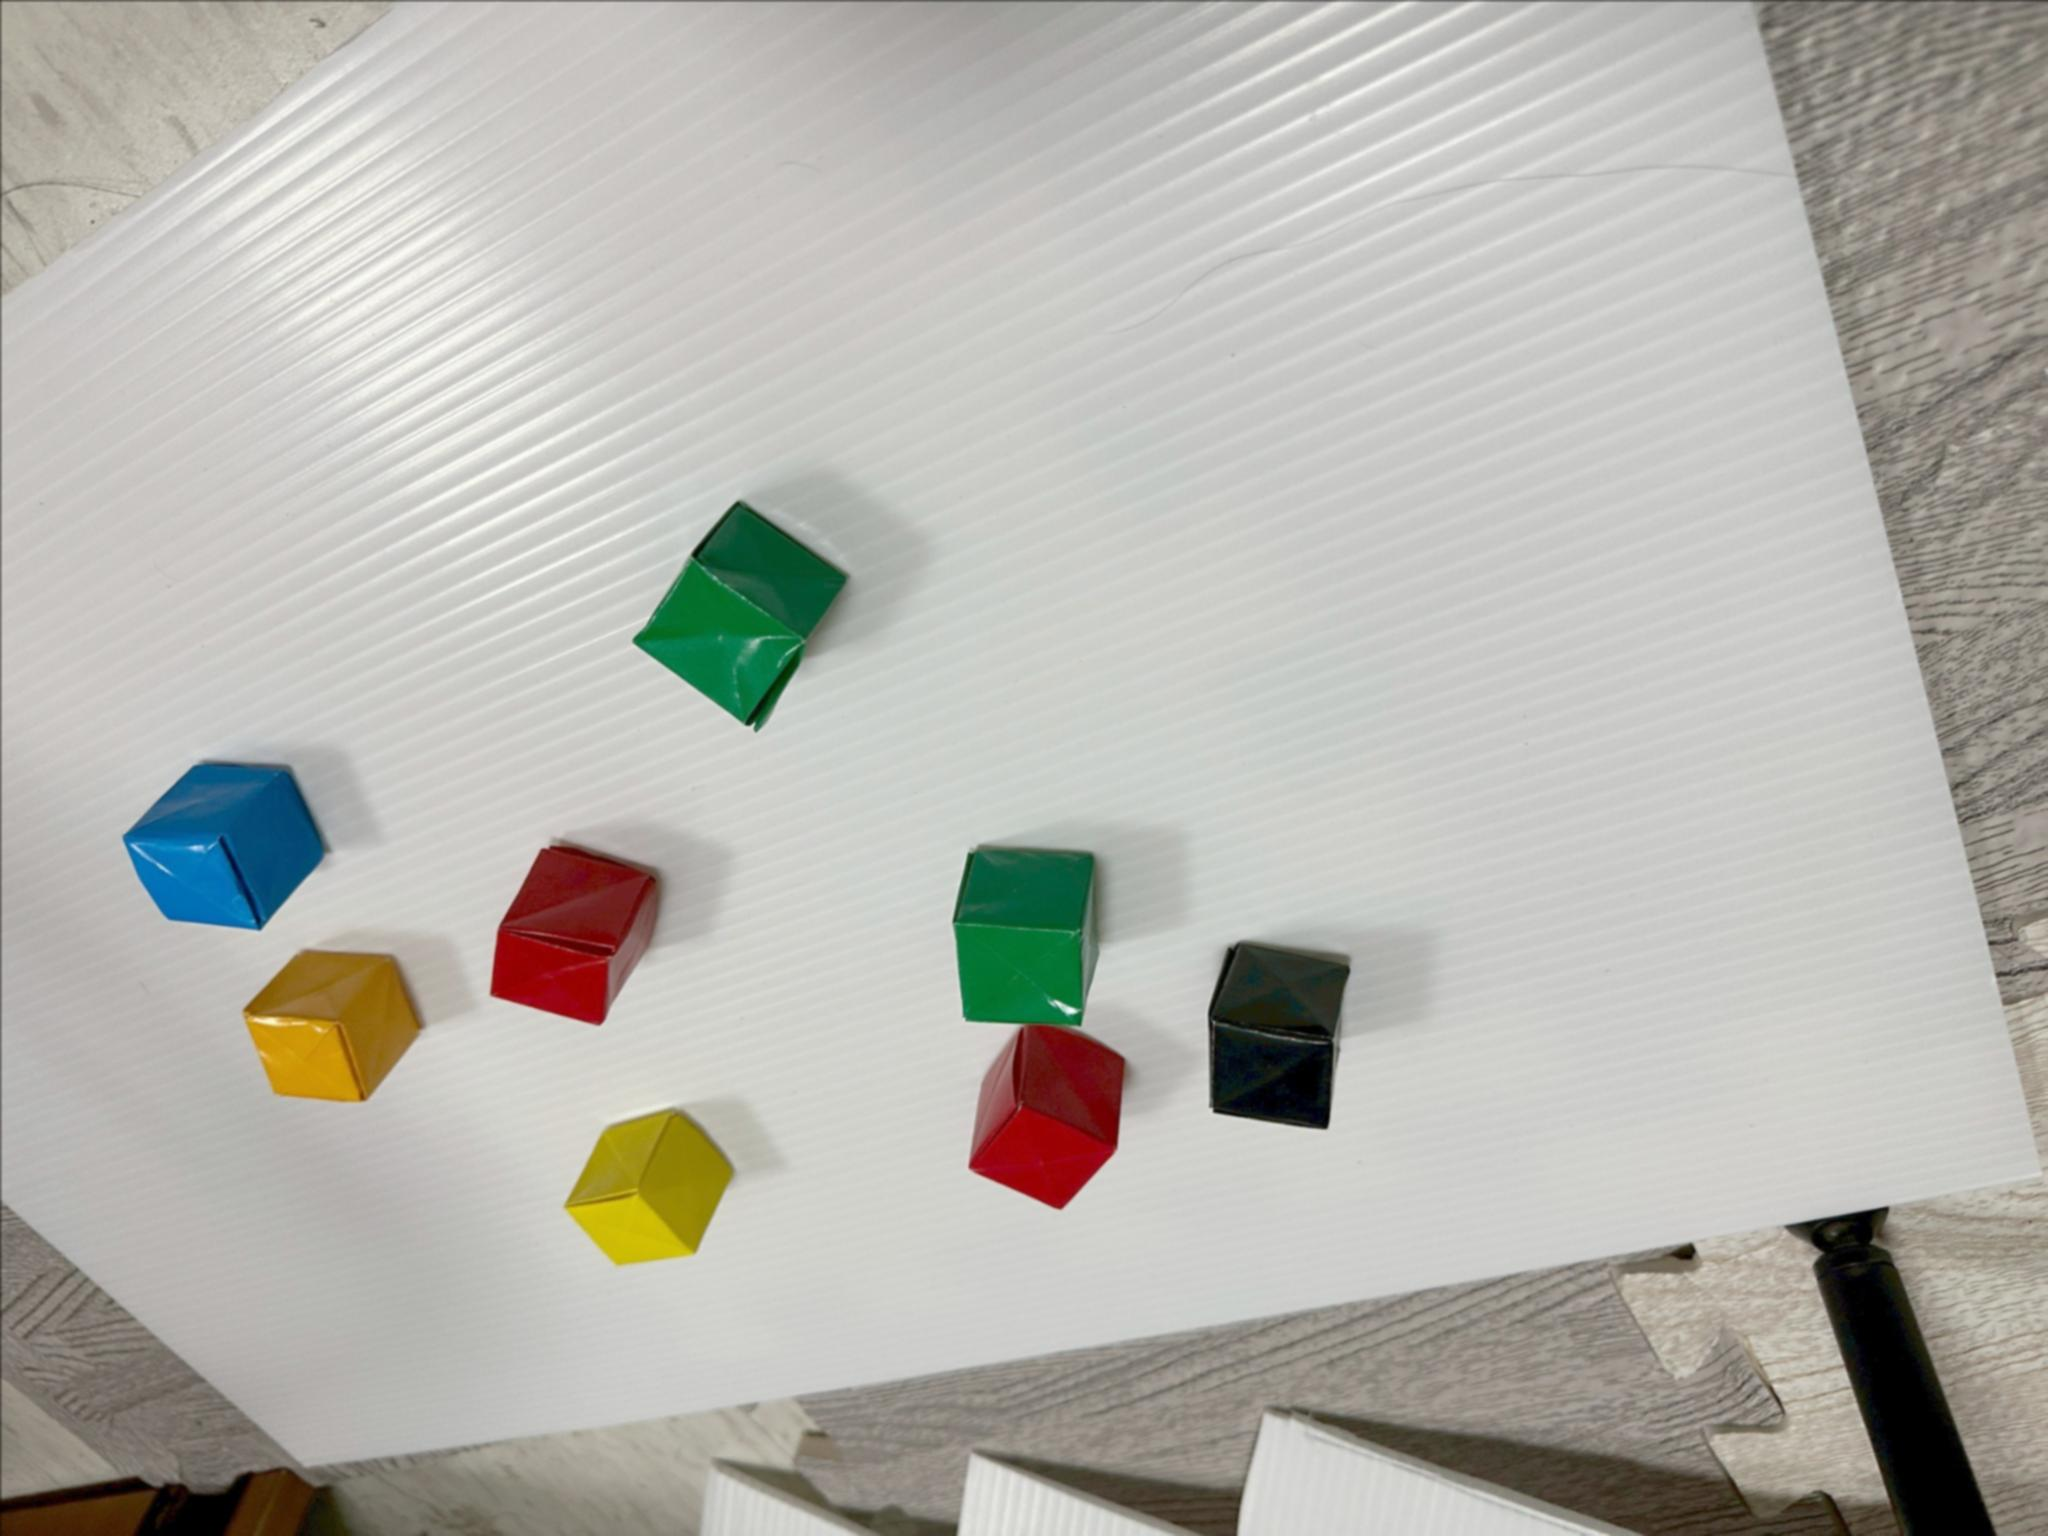base: (632, 500, 845, 726), (123, 763, 324, 929), (490, 845, 658, 1023), (968, 1025, 1122, 1207), (1206, 941, 1348, 1128), (244, 950, 418, 1100), (951, 845, 1097, 1025), (564, 1110, 731, 1263)
